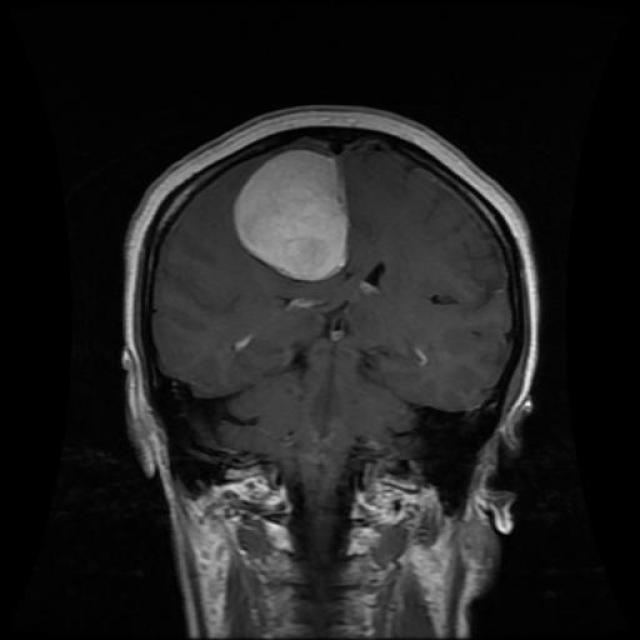meningioma: (234, 149, 348, 281)
